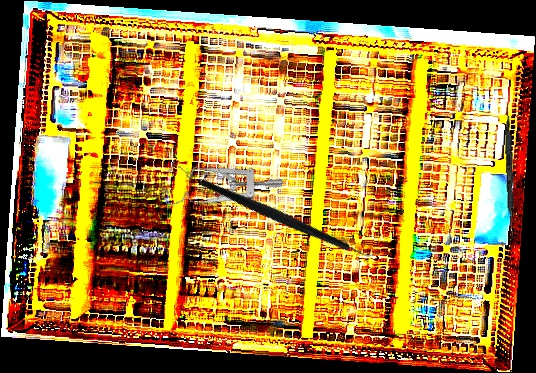Chopper: (197, 125, 384, 310)
Spatula Surgical: (501, 103, 518, 243)
Speculum: (156, 137, 285, 242)
